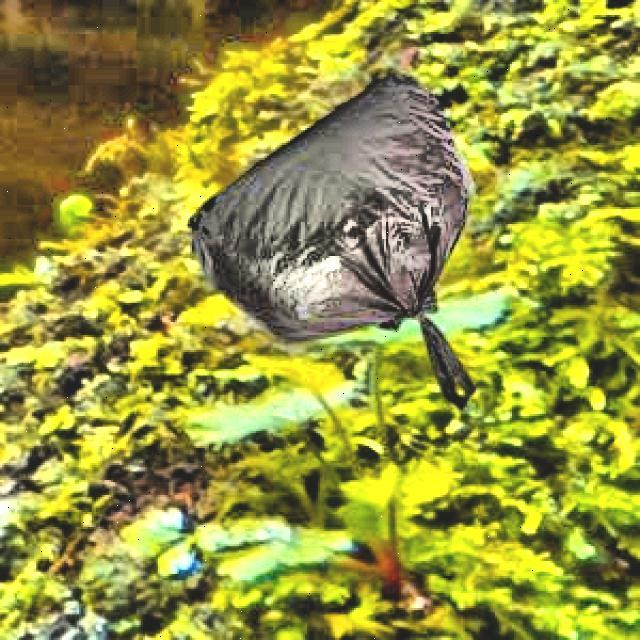Trashbag: (178, 57, 512, 400)
